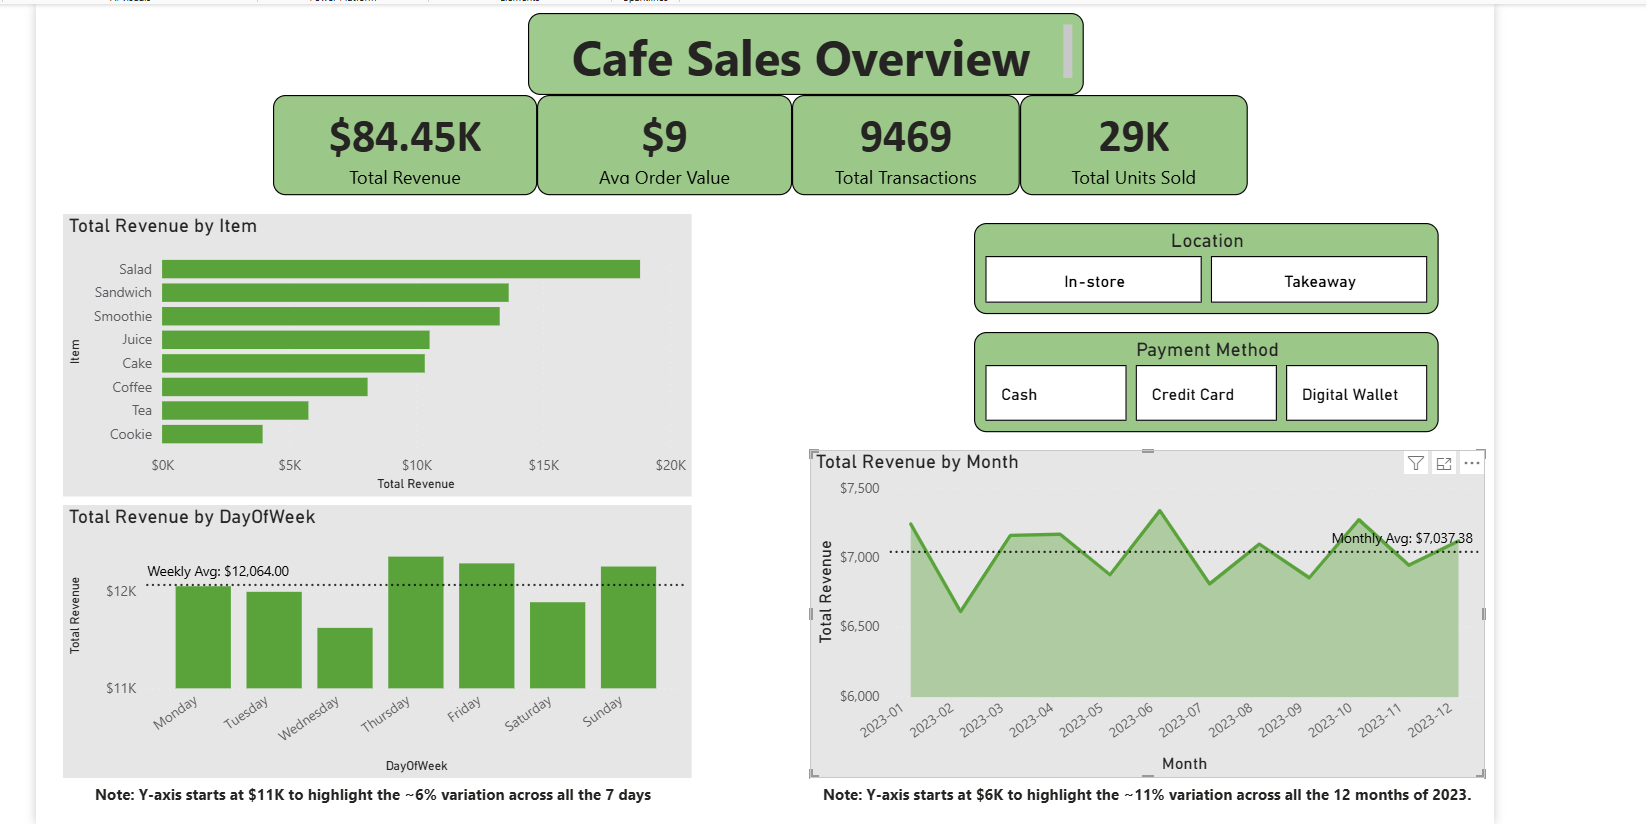

What the dashboard file says about the page in this screenshot:
{"tool":"powerbi","page":{"name":"Page 1","canvas":[1280,720],"ordinal":0},"visuals":[{"type":"card","fields":{"Values":["CafeSales.Total Revenue"]},"box":[208,80,232,88],"z":0},{"type":"card","fields":{"Values":["CafeSales.Avg Order Value"]},"box":[440,80,224,88],"z":1000},{"type":"card","fields":{"Values":["CafeSales.Total Transactions"]},"box":[664,80,200,88],"z":2000},{"type":"card","fields":{"Values":["CafeSales.Total Units Sold"]},"box":[864,80,200,88],"z":3000},{"type":"textbox","box":[432,8,488,72],"z":4000},{"type":"advancedSlicerVisual","fields":{"Values":["CafeSales.Location"]},"box":[824,192,408,80],"z":5000},{"type":"advancedSlicerVisual","fields":{"Values":["CafeSales.Payment Method"]},"box":[824,288,408,88],"z":6000},{"type":"stackedAreaChart","fields":{"Category":["DateTable.Month"],"Y":["CafeSales.Total Revenue"]},"box":[680,392,592,288],"z":7000},{"type":"columnChart","fields":{"Category":["DateTable.DayOfWeek"],"Y":["CafeSales.Total Revenue"]},"box":[24,440,552,240],"z":8000},{"type":"barChart","fields":{"Category":["CafeSales.Item"],"Y":["CafeSales.Total Revenue"]},"box":[24,184,552,248],"z":9000},{"type":"textbox","box":[8,680,576,40],"z":11000},{"type":"textbox","box":[680,680,592,40],"z":12000}]}

Visuals, with their boxes in screenshot pixels (x1, y1, x2, y2):
card - CafeSales.Total Revenue: 436:89:707:192
card - CafeSales.Avg Order Value: 707:89:969:192
card - CafeSales.Total Transactions: 969:89:1203:192
card - CafeSales.Total Units Sold: 1203:89:1436:192
textbox: 698:5:1268:89
advancedSlicerVisual - CafeSales.Location: 1156:220:1633:314
advancedSlicerVisual - CafeSales.Payment Method: 1156:332:1633:435
stackedAreaChart - DateTable.Month x CafeSales.Total Revenue: 988:454:1645:790
columnChart - DateTable.DayOfWeek x CafeSales.Total Revenue: 221:510:866:790
barChart - CafeSales.Item x CafeSales.Total Revenue: 221:211:866:501
textbox: 202:790:875:823
textbox: 988:790:1645:823
